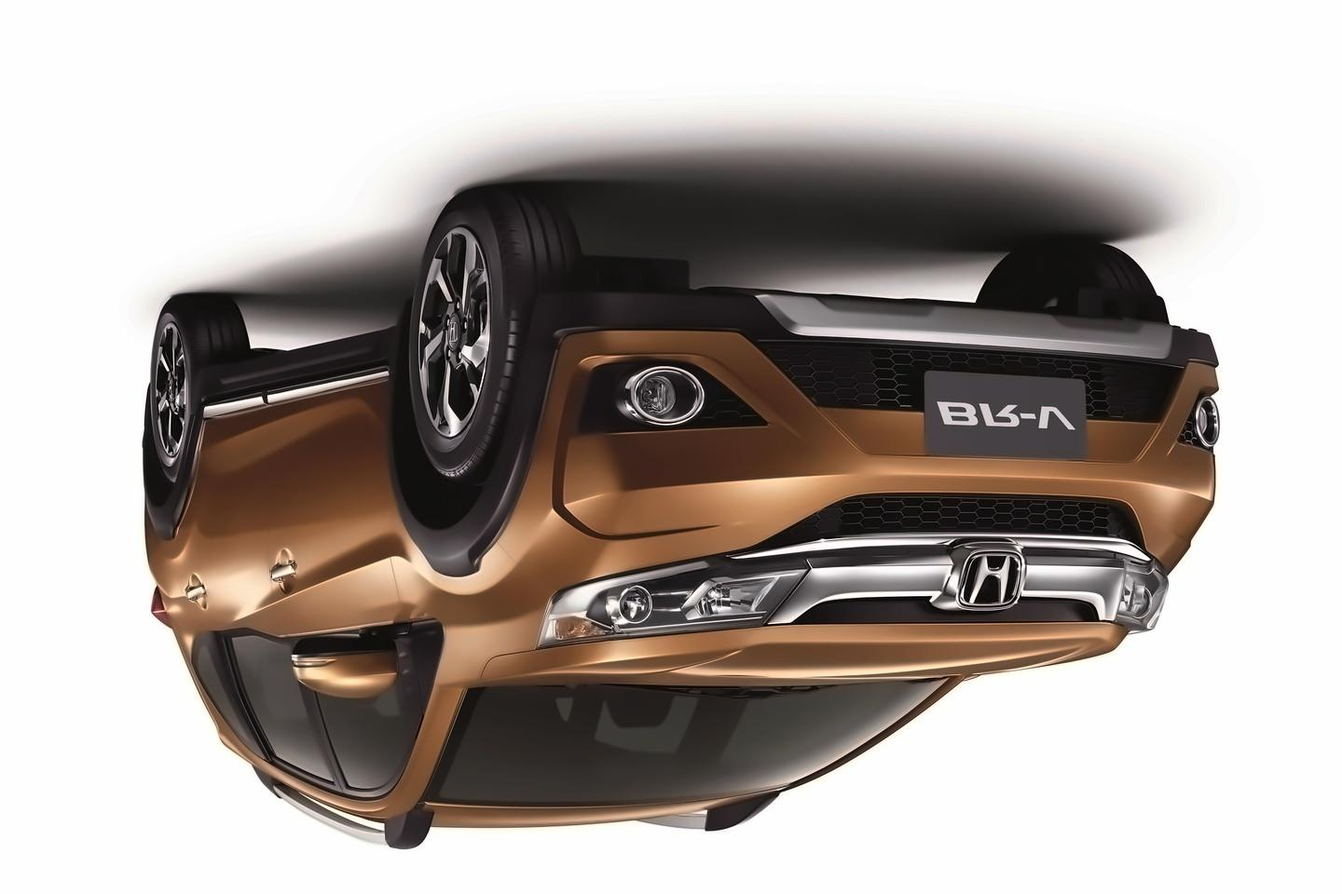Car hood: (446, 616, 1154, 706)
Fender - -F-L-: (384, 344, 541, 696)
Fender - -R-L-: (103, 478, 254, 652)
Front bumper: (513, 267, 1254, 514)
Headlight - -L-: (527, 548, 816, 651)
Headlight - -R-: (1108, 553, 1179, 633)
Passenger-s door - -F-L-: (249, 306, 518, 852)
Passenger-s door - -R-L-: (176, 311, 362, 829)
Side bumper - -L-: (186, 300, 429, 480)
Side mirror - -L-: (286, 626, 418, 705)
